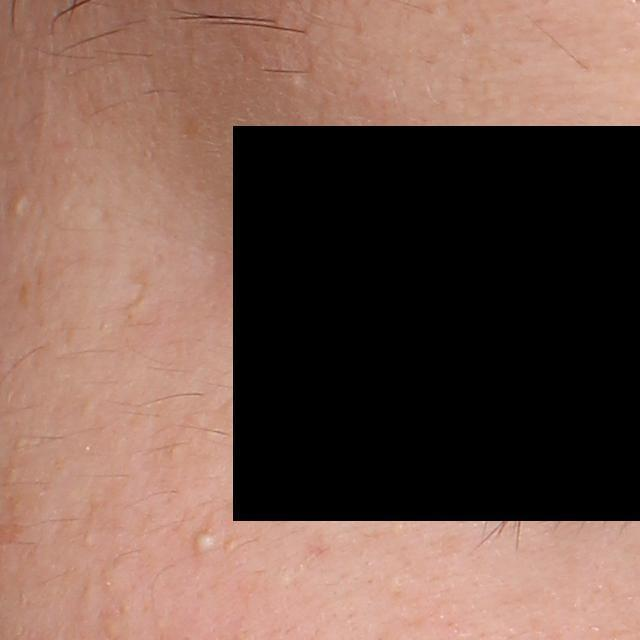other: (188, 529, 217, 557)
